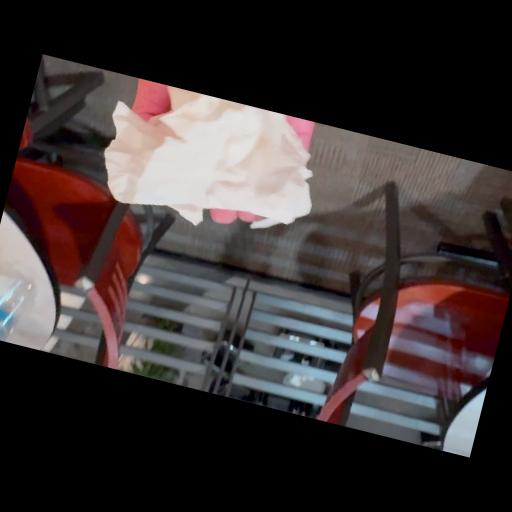napkin: (90, 74, 334, 254)
